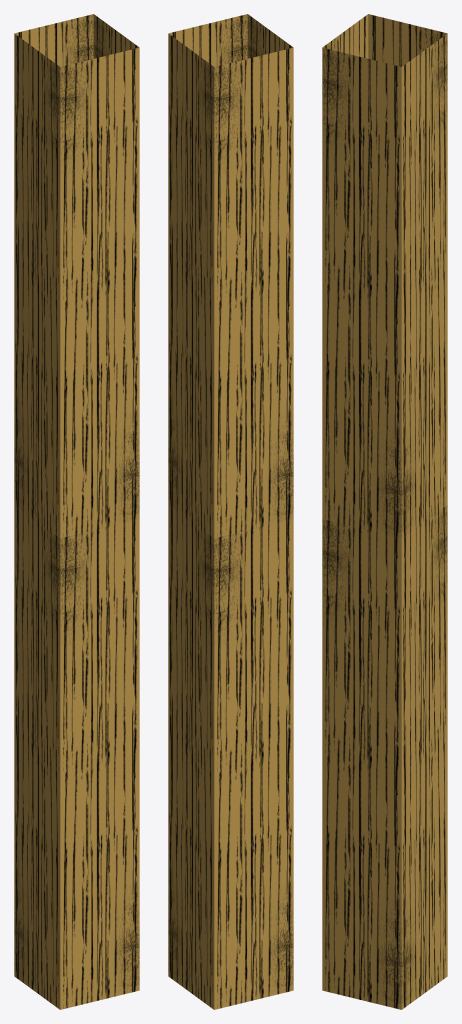
Rendered from PierKit_PierPilarTall.fbx.
The picture shows the model from 3 angles, left to right: view 1: azimuth 30°, elevation 25°; view 2: azimuth 210°, elevation 25°; view 3: azimuth 330°, elevation 25°; orthographic projection.
Parts seen in each view (by area): view 1: PierPilarTall; view 2: PierPilarTall; view 3: PierPilarTall.
Boxes of the visible parts, x1,y1,x2,y2 form: PierPilarTall: (14,14,139,1009); PierPilarTall: (168,14,293,1009); PierPilarTall: (322,14,447,1009).
Size of the model in its own units: 31.52 by 357 by 31.52.
Materials: 1 (1 with a texture image).
